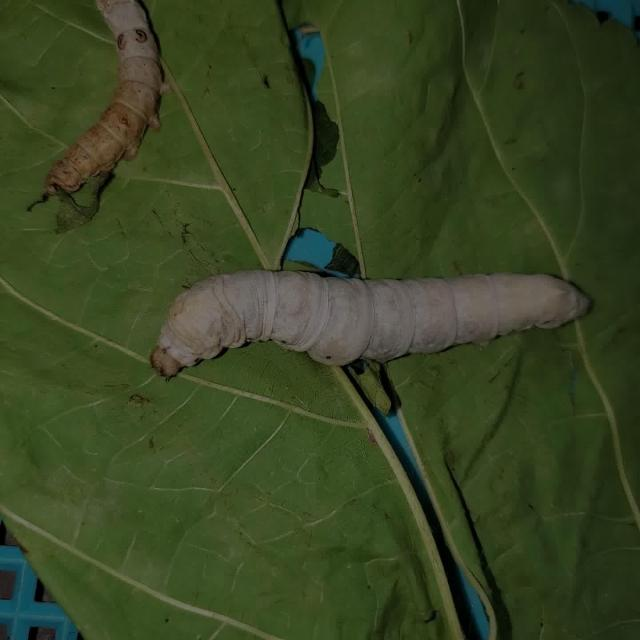Grasserie: (135, 254, 616, 416), (30, 0, 187, 226)
